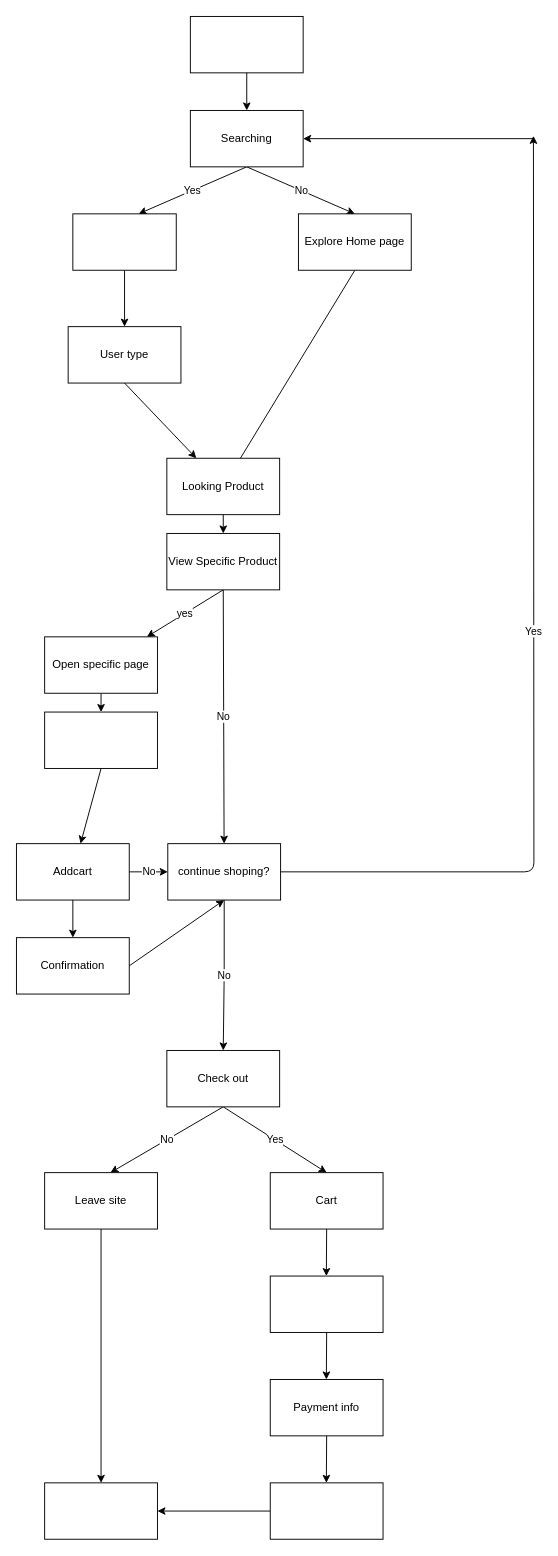
Image size: 558x1556. Some labels were removed from this diagram. Each missing label, with the box of its shape:
Confirmation screen, send email.: (269, 1482, 383, 1539)
END: (44, 1482, 157, 1539)
Enter: (189, 16, 303, 73)
Open page: (44, 711, 157, 768)
Payment: (269, 1275, 383, 1332)
Searching Product: (72, 213, 176, 270)
